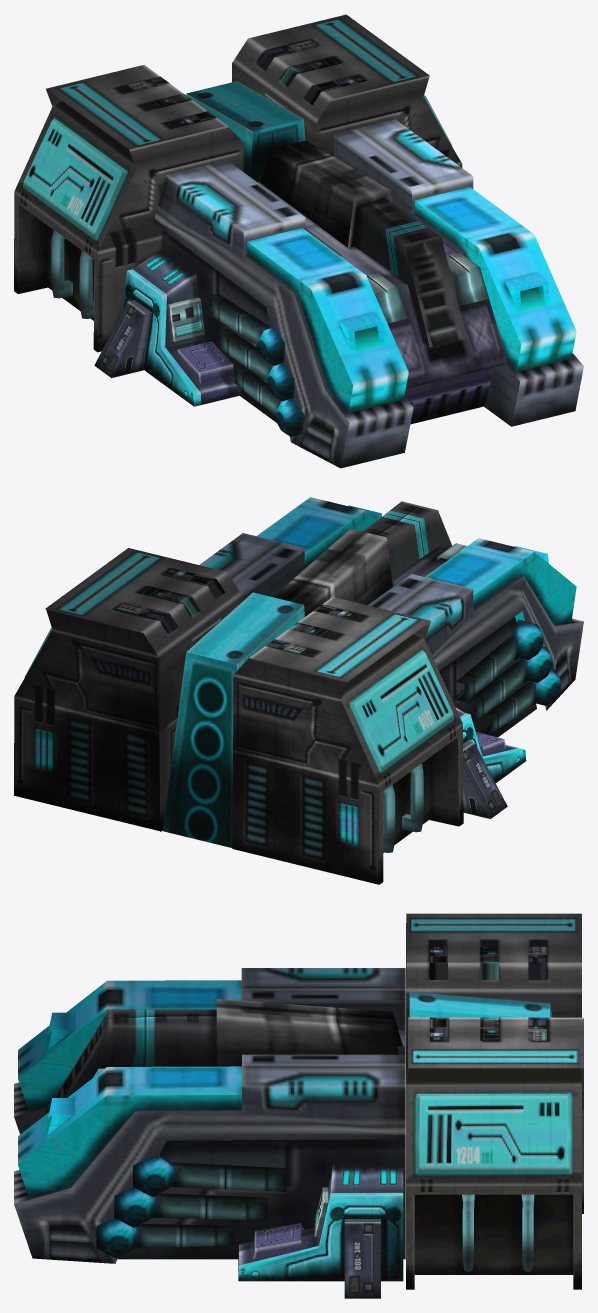
File: datan_common_____0_363ad449.obj
The picture shows the model from 3 angles, top to bottom: view 1: azimuth 30°, elevation 25°; view 2: azimuth 150°, elevation 25°; view 3: azimuth 270°, elevation 25°; orthographic projection. The views are drawn at different scales.
Visible parts, largest first — view 1: datan_common_____0_363ad449_mesh18, datan_common_____0_363ad449_mesh00, datan_common_____0_363ad449_mesh14, datan_common_____0_363ad449_mesh01, datan_common_____0_363ad449_mesh08, datan_common_____0_363ad449_mesh05, datan_common_____0_363ad449_mesh19, datan_common_____0_363ad449_mesh07, datan_common_____0_363ad449_mesh09, datan_common_____0_363ad449_mesh12, datan_common_____0_363ad449_mesh11; view 2: datan_common_____0_363ad449_mesh06, datan_common_____0_363ad449_mesh10, datan_common_____0_363ad449_mesh18, datan_common_____0_363ad449_mesh05, datan_common_____0_363ad449_mesh07, datan_common_____0_363ad449_mesh08, datan_common_____0_363ad449_mesh00, datan_common_____0_363ad449_mesh01, datan_common_____0_363ad449_mesh14, datan_common_____0_363ad449_mesh19, datan_common_____0_363ad449_mesh09, datan_common_____0_363ad449_mesh11 (+1 smaller); view 3: datan_common_____0_363ad449_mesh14, datan_common_____0_363ad449_mesh13, datan_common_____0_363ad449_mesh00, datan_common_____0_363ad449_mesh18, datan_common_____0_363ad449_mesh15, datan_common_____0_363ad449_mesh01, datan_common_____0_363ad449_mesh08, datan_common_____0_363ad449_mesh07, datan_common_____0_363ad449_mesh02, datan_common_____0_363ad449_mesh03, datan_common_____0_363ad449_mesh04.
Part boxes in pixels (left/top/right/bottom): datan_common_____0_363ad449_mesh18: left=153, top=160, right=413, bottom=468; datan_common_____0_363ad449_mesh00: left=258, top=140, right=507, bottom=424; datan_common_____0_363ad449_mesh14: left=334, top=119, right=583, bottom=426; datan_common_____0_363ad449_mesh01: left=46, top=65, right=243, bottom=352; datan_common_____0_363ad449_mesh08: left=232, top=14, right=461, bottom=166; datan_common_____0_363ad449_mesh05: left=14, top=101, right=135, bottom=351; datan_common_____0_363ad449_mesh19: left=94, top=249, right=241, bottom=406; datan_common_____0_363ad449_mesh07: left=186, top=81, right=305, bottom=182; datan_common_____0_363ad449_mesh09: left=257, top=40, right=318, bottom=70; datan_common_____0_363ad449_mesh12: left=280, top=57, right=341, bottom=87; datan_common_____0_363ad449_mesh11: left=304, top=74, right=365, bottom=104; datan_common_____0_363ad449_mesh06: left=232, top=658, right=379, bottom=884; datan_common_____0_363ad449_mesh10: left=14, top=609, right=160, bottom=830; datan_common_____0_363ad449_mesh18: left=368, top=538, right=583, bottom=737; datan_common_____0_363ad449_mesh05: left=341, top=634, right=463, bottom=884; datan_common_____0_363ad449_mesh07: left=162, top=592, right=304, bottom=847; datan_common_____0_363ad449_mesh08: left=45, top=548, right=242, bottom=831; datan_common_____0_363ad449_mesh00: left=273, top=501, right=466, bottom=616; datan_common_____0_363ad449_mesh01: left=249, top=597, right=431, bottom=852; datan_common_____0_363ad449_mesh14: left=199, top=497, right=381, bottom=600; datan_common_____0_363ad449_mesh19: left=455, top=707, right=526, bottom=818; datan_common_____0_363ad449_mesh09: left=116, top=602, right=178, bottom=632; datan_common_____0_363ad449_mesh11: left=163, top=568, right=225, bottom=598; datan_common_____0_363ad449_mesh14: left=14, top=1054, right=405, bottom=1263; datan_common_____0_363ad449_mesh13: left=406, top=1068, right=581, bottom=1289; datan_common_____0_363ad449_mesh00: left=45, top=999, right=404, bottom=1114; datan_common_____0_363ad449_mesh18: left=14, top=968, right=405, bottom=1134; datan_common_____0_363ad449_mesh15: left=238, top=1163, right=403, bottom=1298; datan_common_____0_363ad449_mesh01: left=406, top=913, right=581, bottom=1084; datan_common_____0_363ad449_mesh08: left=408, top=1017, right=583, bottom=1272; datan_common_____0_363ad449_mesh07: left=409, top=992, right=552, bottom=1017; datan_common_____0_363ad449_mesh02: left=480, top=946, right=498, bottom=979; datan_common_____0_363ad449_mesh03: left=528, top=946, right=546, bottom=979; datan_common_____0_363ad449_mesh04: left=430, top=946, right=447, bottom=979.
Bounding box in the file's own units: 6.37 × 3.02 × 7.53.
1 material, 1 textured.
